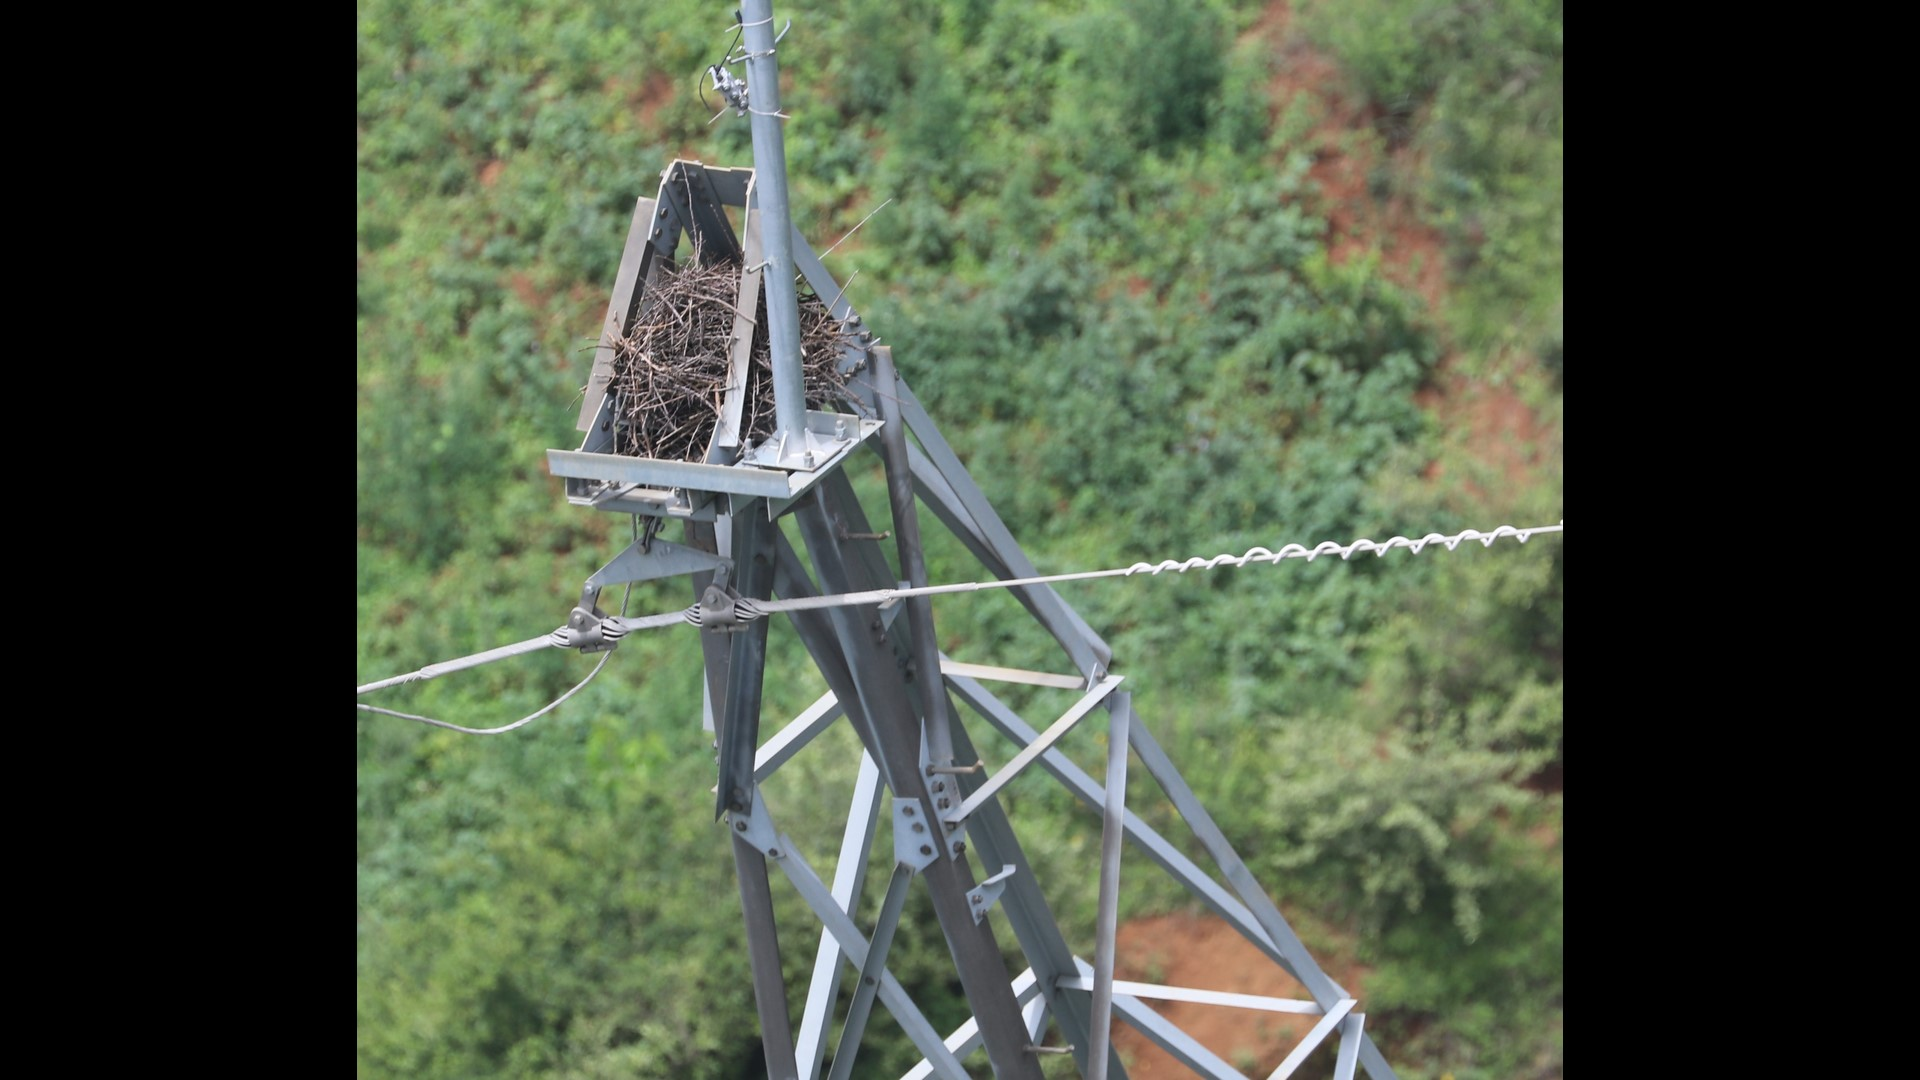niaowo: (589, 257, 868, 487)
